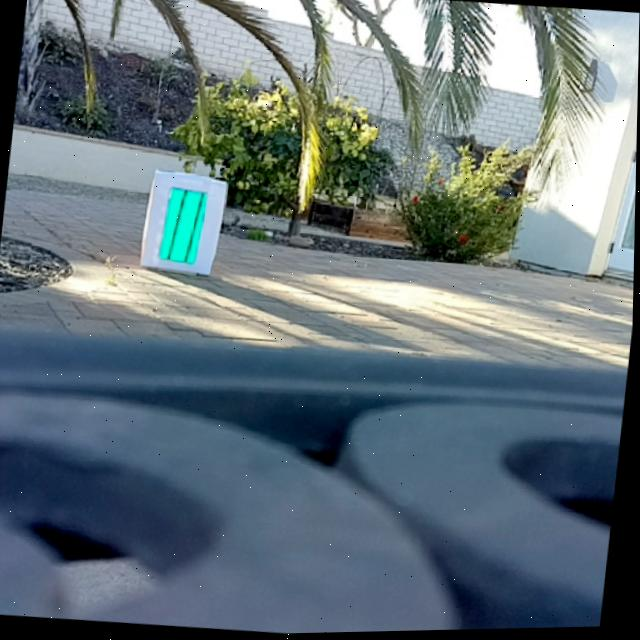led: (160, 187, 209, 265)
